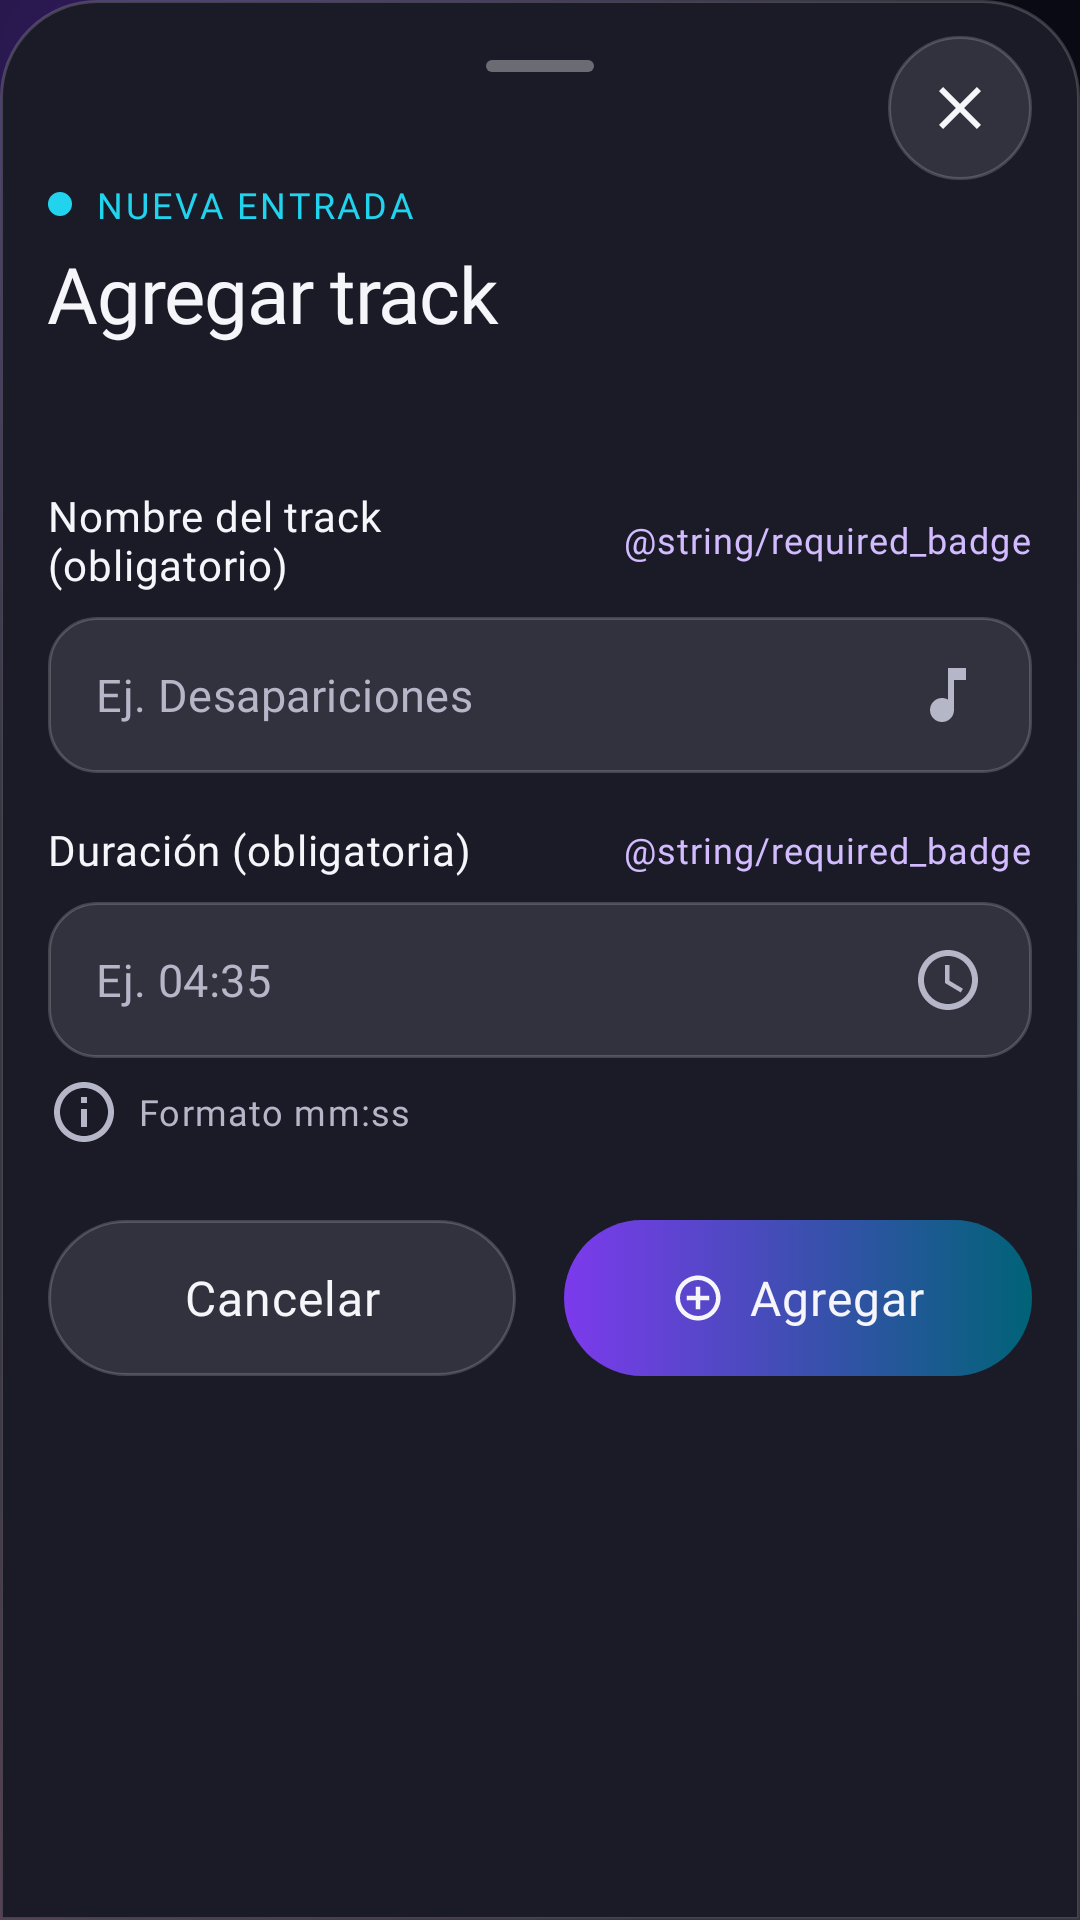

Icons on this 1080*1920 Android screen, each with its box as region(x1, y1, x2, y2):
Cerrar: region(888, 36, 1032, 180)
